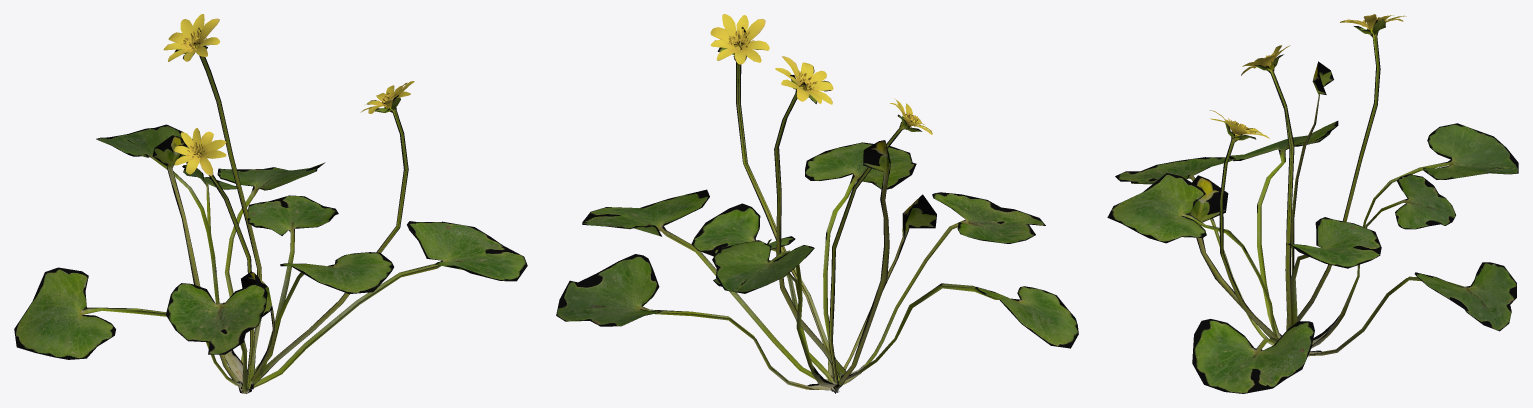
Rendered from Planta_3.glb.
The picture shows the model from 3 angles, left to right: view 1: azimuth 30°, elevation 25°; view 2: azimuth 150°, elevation 25°; view 3: azimuth 270°, elevation 25°; orthographic projection. The views are drawn at different scales.
Visible parts, largest first — view 1: Planta 3; view 2: Planta 3; view 3: Planta 3.
Part boxes in pixels (bbox=[...]): Planta 3: bbox=[14, 14, 527, 393]; Planta 3: bbox=[556, 14, 1078, 393]; Planta 3: bbox=[1107, 14, 1518, 393].
Bounding box in the file's own units: 0.4629 × 0.3161 × 0.3354.
Materials: 1 (1 with a texture image).
